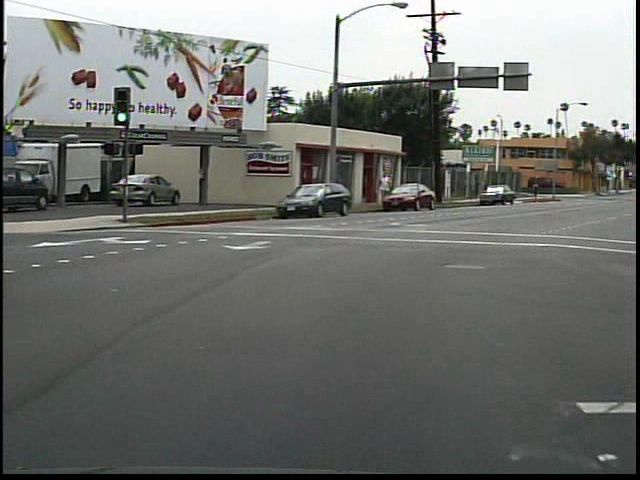person: (374, 166, 397, 210), (531, 178, 543, 204)
